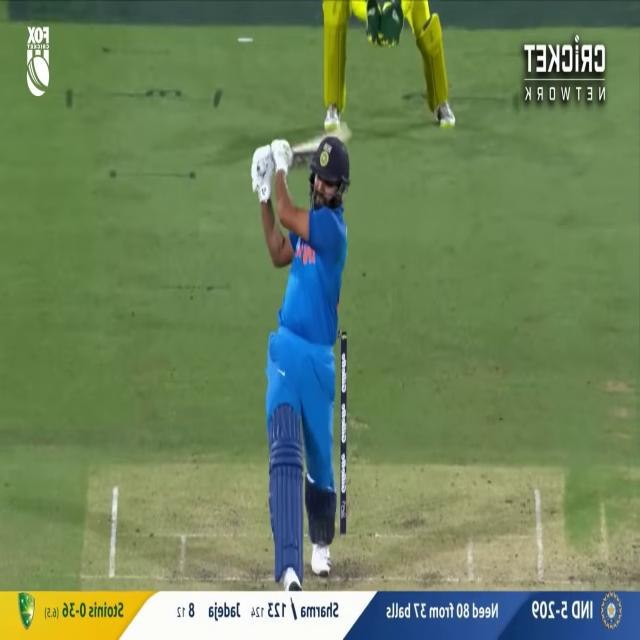stump: (336, 331, 347, 538)
